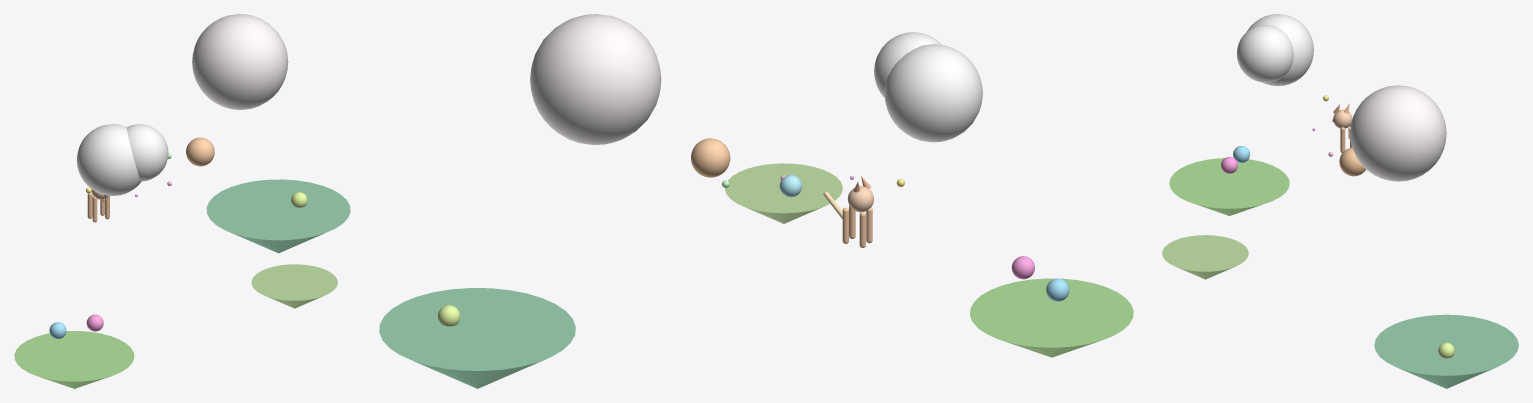
The picture shows the model from 3 angles, left to right: view 1: azimuth 30°, elevation 25°; view 2: azimuth 150°, elevation 25°; view 3: azimuth 270°, elevation 25°; orthographic projection. The views are drawn at different scales.
Visible parts, largest first — view 1: cloud_3, island_2, island_1, cloud_1, island_3, cloud_2, creature_body; view 2: cloud_3, island_2, island_1, cloud_1, island_3, cloud_2, creature_body; view 3: cloud_3, island_2, island_1, island_3, cloud_2, cloud_1, creature_body.
Part boxes in pixels (box(x1,y1,x2,y2)): cloud_3: box(192, 14, 288, 109); island_2: box(206, 179, 350, 253); island_1: box(14, 331, 134, 388); cloud_1: box(76, 124, 141, 195); island_3: box(251, 264, 337, 308); cloud_2: box(126, 124, 168, 181); creature_body: box(186, 137, 214, 166); cloud_3: box(530, 14, 661, 145); island_2: box(379, 288, 575, 388); island_1: box(970, 278, 1133, 357); cloud_1: box(884, 44, 982, 142); island_3: box(725, 163, 842, 223); cloud_2: box(874, 32, 941, 97); creature_body: box(691, 138, 730, 177); cloud_3: box(1350, 85, 1446, 181); island_2: box(1374, 314, 1518, 388); island_1: box(1169, 158, 1289, 215); island_3: box(1162, 235, 1248, 279); cloud_2: box(1236, 25, 1293, 82); cloud_1: box(1247, 14, 1313, 86); creature_body: box(1339, 147, 1365, 176).
Size of the model in its own units: 20.5 by 12.29 by 14.8.
